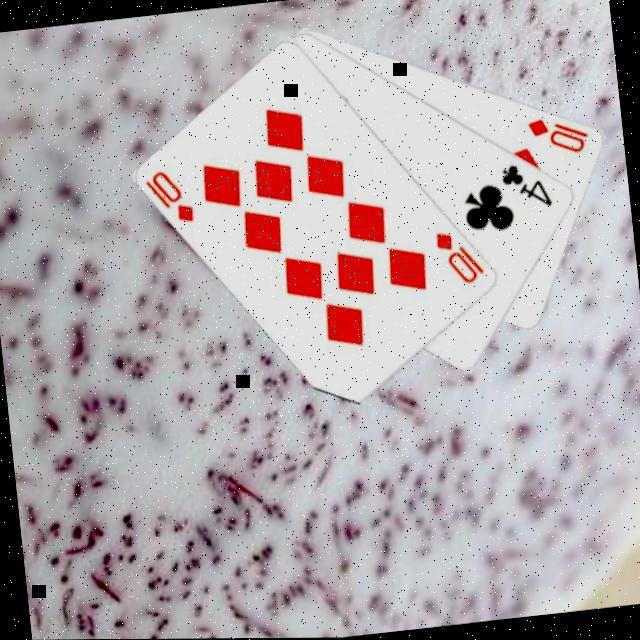10D: (142, 166, 200, 232), (432, 227, 490, 292), (526, 112, 596, 164)
4C: (498, 159, 558, 216)
